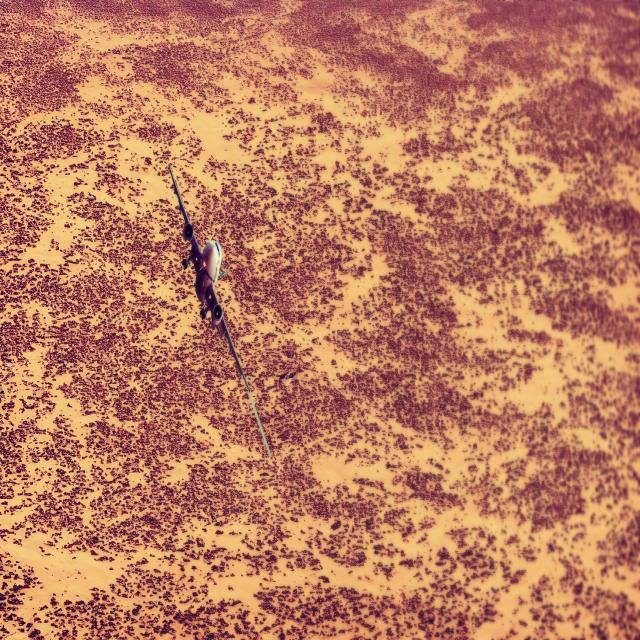airplane: (167, 162, 272, 460)
